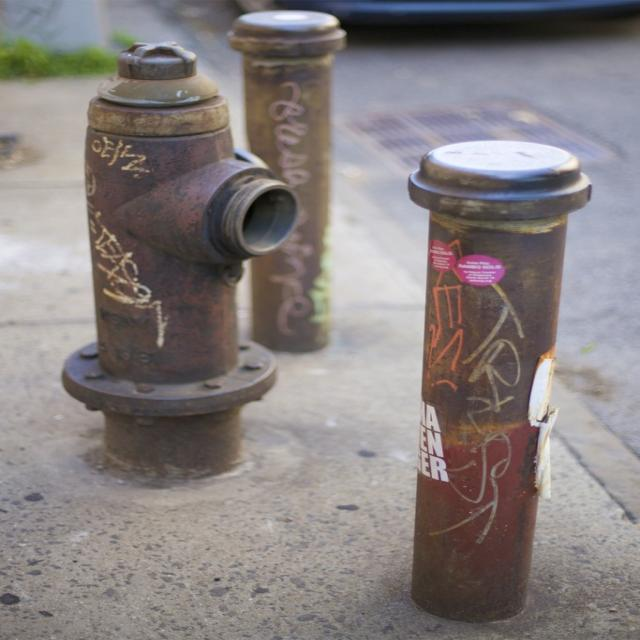fire_hydrant: (55, 44, 299, 482)
